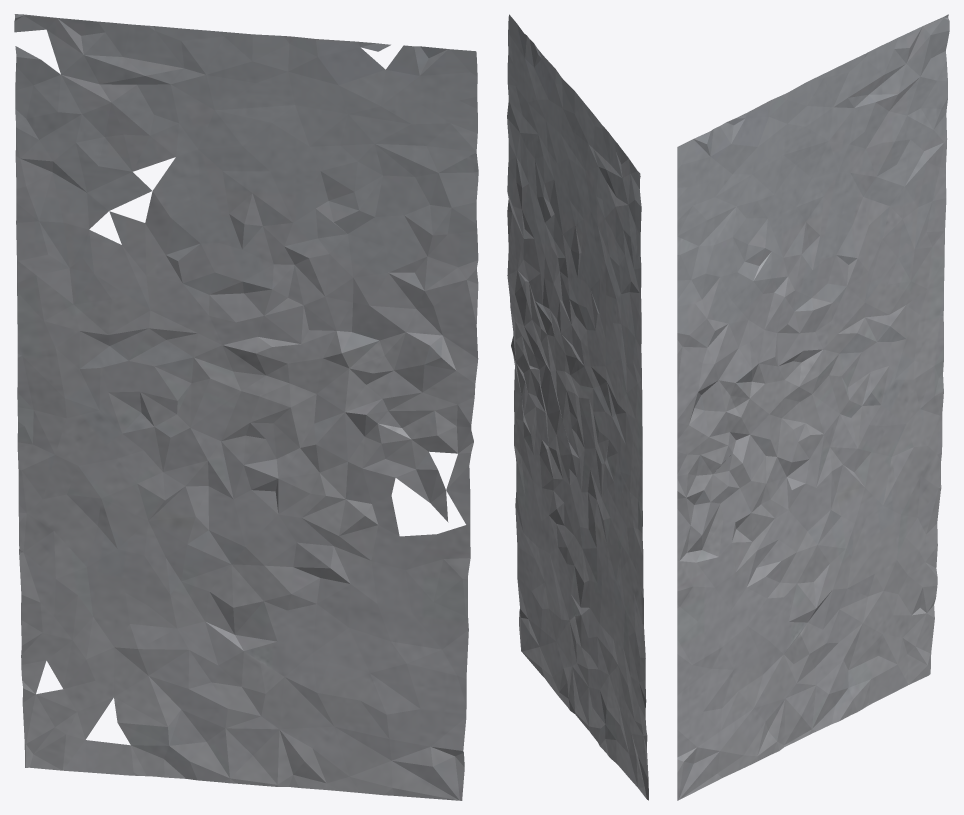
3 views of the same model, side by side, from view 1: azimuth 30°, elevation 25°; view 2: azimuth 150°, elevation 25°; view 3: azimuth 270°, elevation 25° (orthographic). The views are drawn at different scales.
Size of the model in its own units: 0.3645 by 0.8374 by 0.3133.
2 materials, 2 textured.
